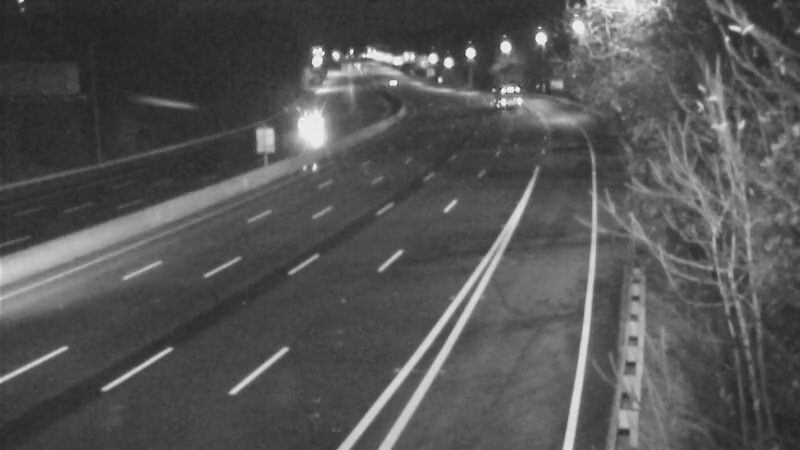vehicle: (361, 57, 411, 107), (468, 66, 518, 116), (289, 102, 339, 152)
